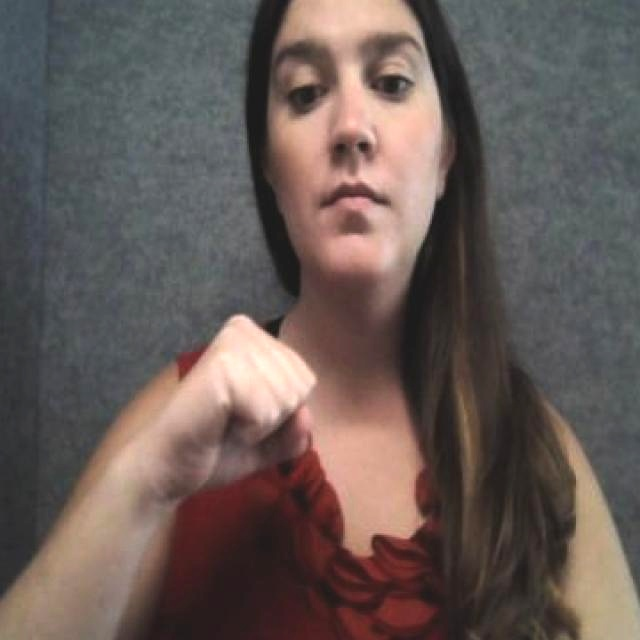Rock: (162, 305, 322, 500)
